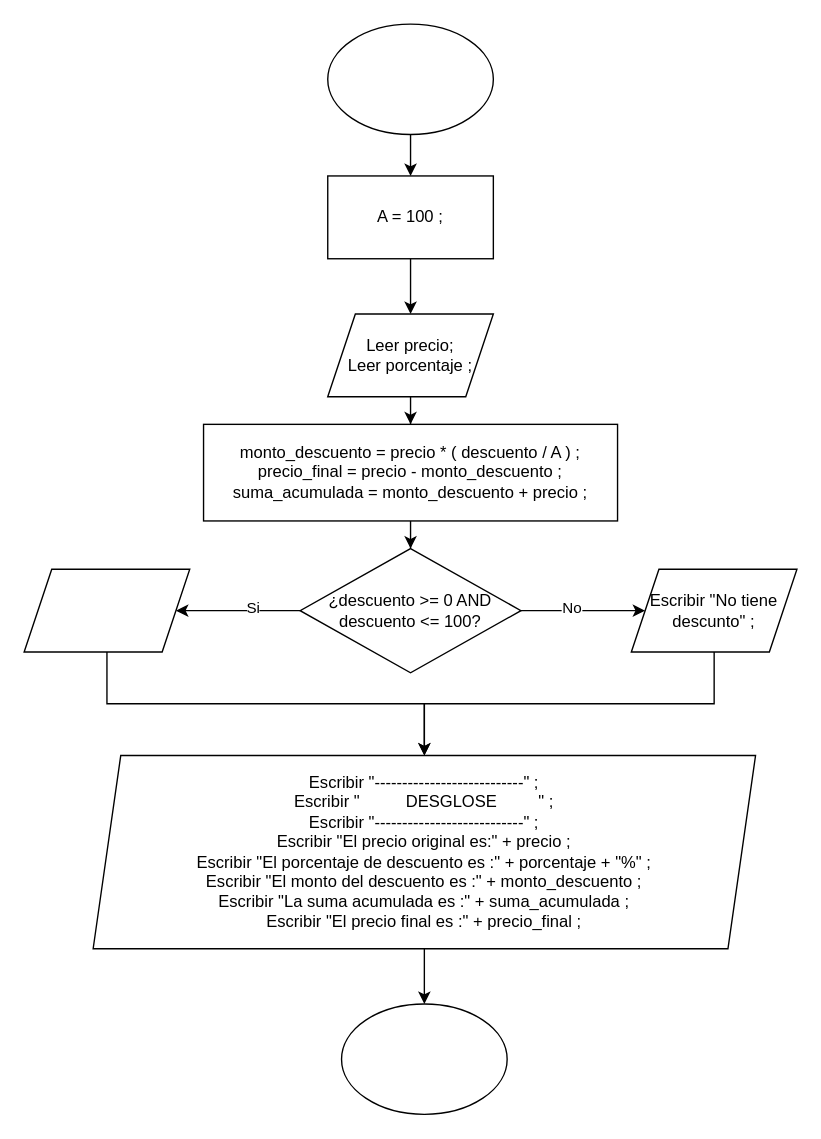
This 821x1139 diagram has some shape labels left out. Each missing label, with the centre of its shape:
Escribir "Su descuento es de :" + porcentaje +"%";: point (106, 610)
Fin: point (423, 1058)
Inicio: point (409, 79)
